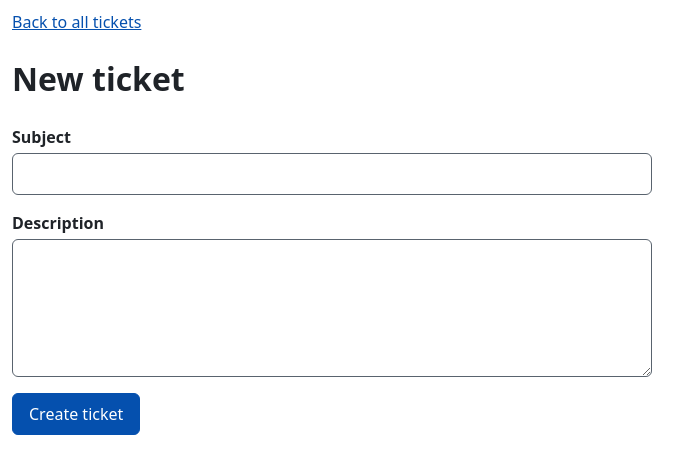
it: NewTicketPage › disables the button while the ticket is being saved
This screenshot has width=674, height=452.
In the field labelled "Subject": (332, 174) [12,153,652,195], type "Printer jammed"
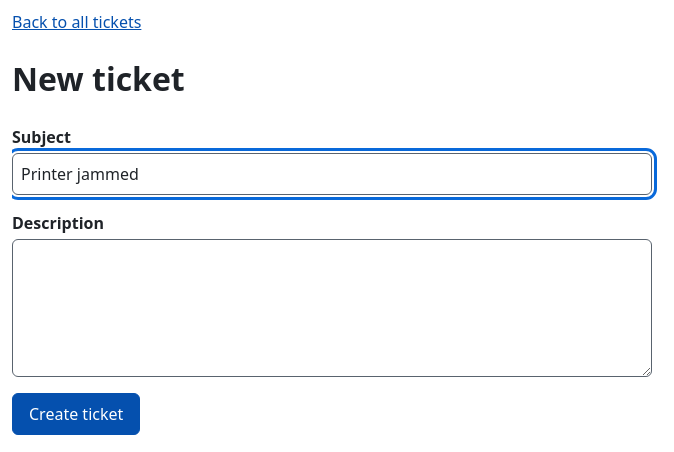
In the text box labelled "Description": (332, 308) [12,239,652,377], type "Paper stuck"
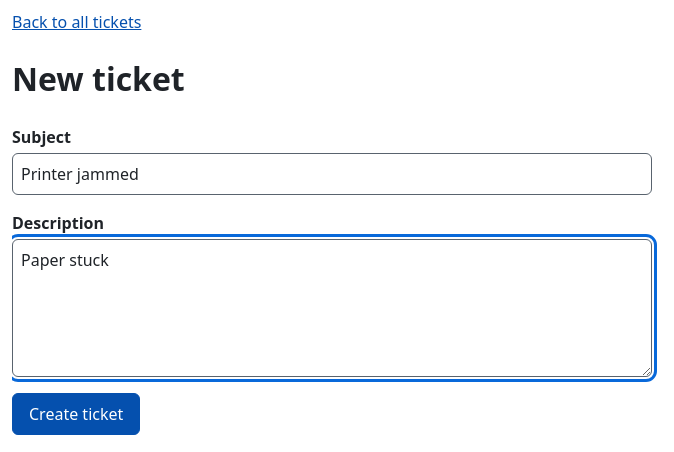
Click the button "Create ticket": (76, 414) [12,393,140,435]
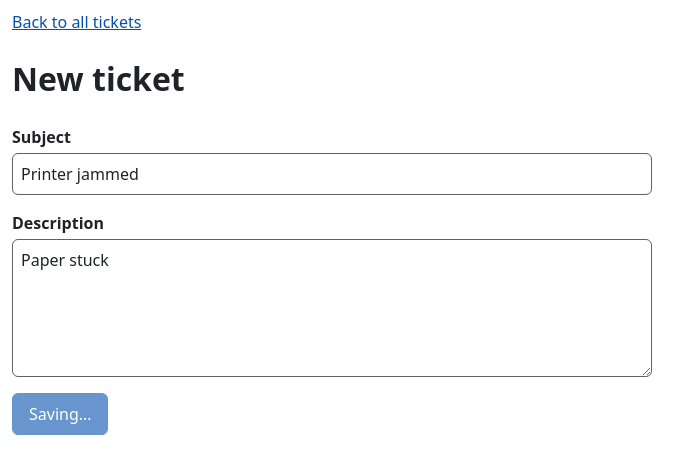
Now the button "Saving…" is disabled, box [12,393,108,435]
